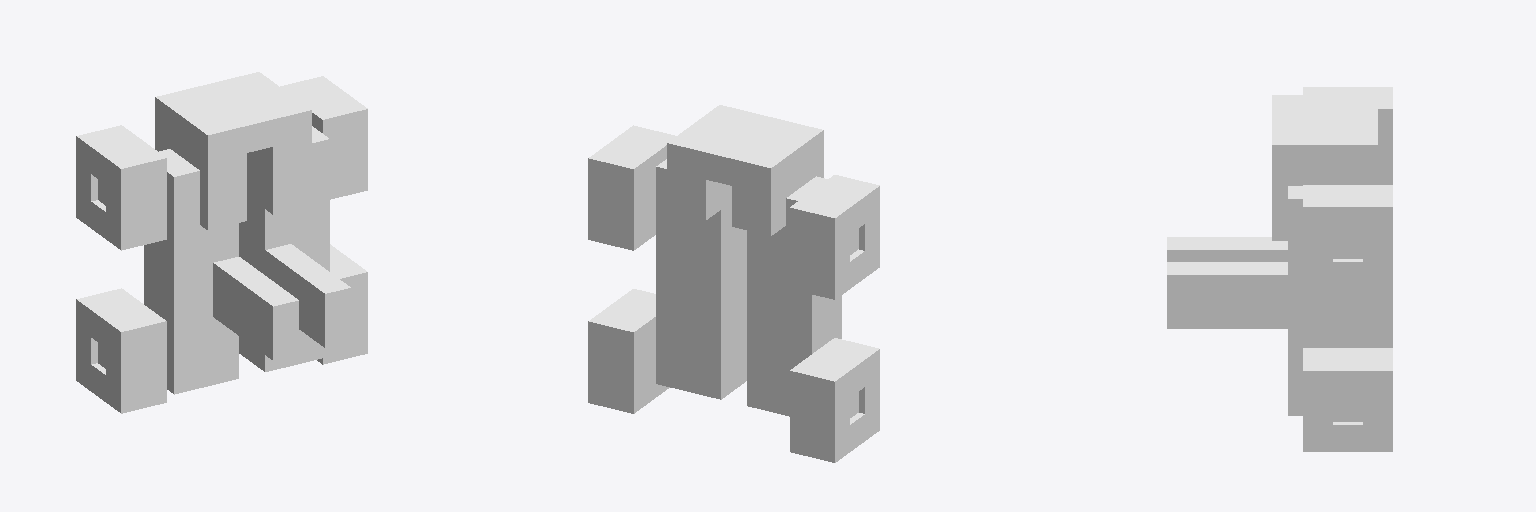
Rendered from razorback.obj.
3 renders of one model, left to right at view 1: azimuth 30°, elevation 25°; view 2: azimuth 150°, elevation 25°; view 3: azimuth 270°, elevation 25°, orthographic.
Size of the model in its own units: 38 by 40 by 30.